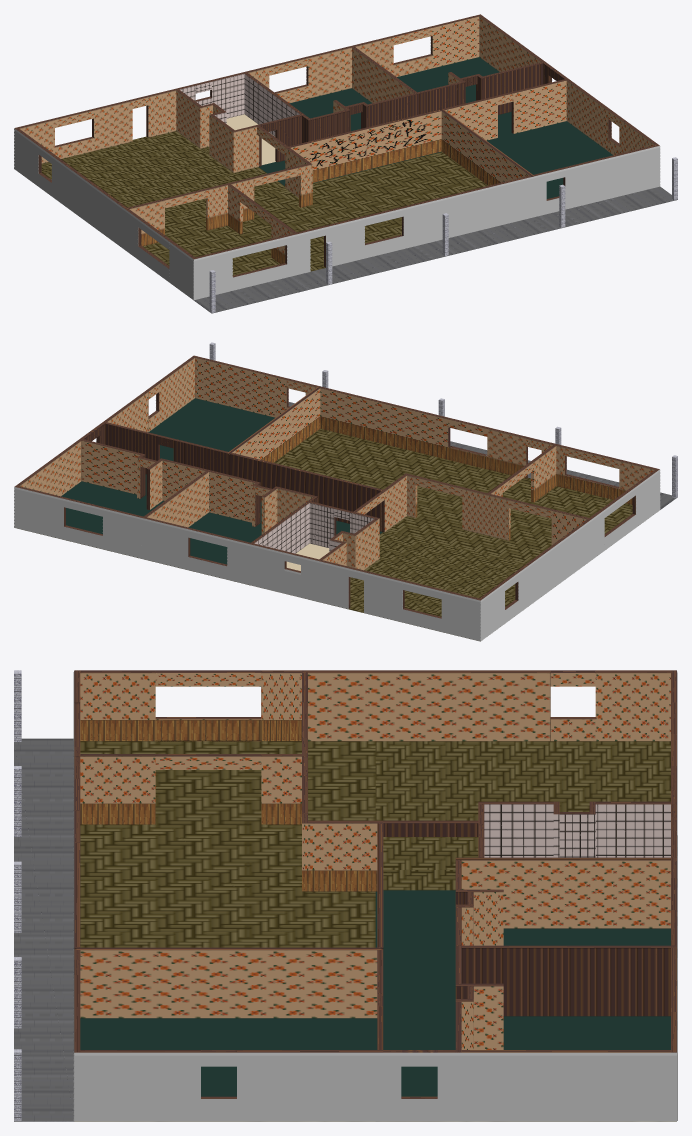
The model's file is Maria's_House_Mundo Real.obj.
The picture shows the model from 3 angles, top to bottom: view 1: azimuth 30°, elevation 25°; view 2: azimuth 150°, elevation 25°; view 3: azimuth 270°, elevation 25°; orthographic projection. The views are drawn at different scales.
Parts seen in each view (by area): view 1: Casa; view 2: Casa; view 3: Casa.
Part boxes in pixels (x1,y1,x2,y2): Casa: (14, 14, 677, 313); Casa: (14, 342, 677, 641); Casa: (14, 670, 677, 1121).
Size of the model in its own units: 18.78 by 1.58 by 13.77.
2 materials, 1 textured.
